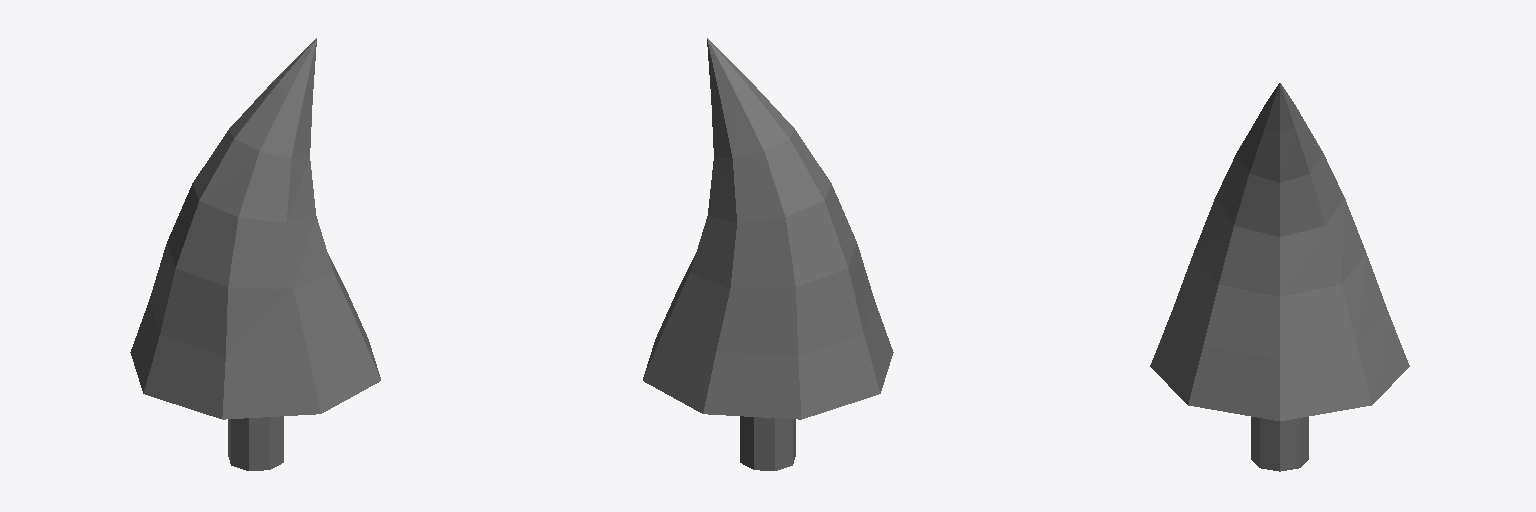
File: TreeB1.obj
3 renders of one model, left to right at view 1: azimuth 30°, elevation 25°; view 2: azimuth 150°, elevation 25°; view 3: azimuth 270°, elevation 25°, orthographic.
Parts seen in each view (by area): view 1: pCone1; view 2: pCone1; view 3: pCone1.
Part boxes in pixels (left/top/right/bottom): pCone1: left=130, top=38, right=380, bottom=470; pCone1: left=643, top=38, right=893, bottom=470; pCone1: left=1150, top=83, right=1409, bottom=471.
Bounding box in the file's own units: 6 × 10.37 × 6.